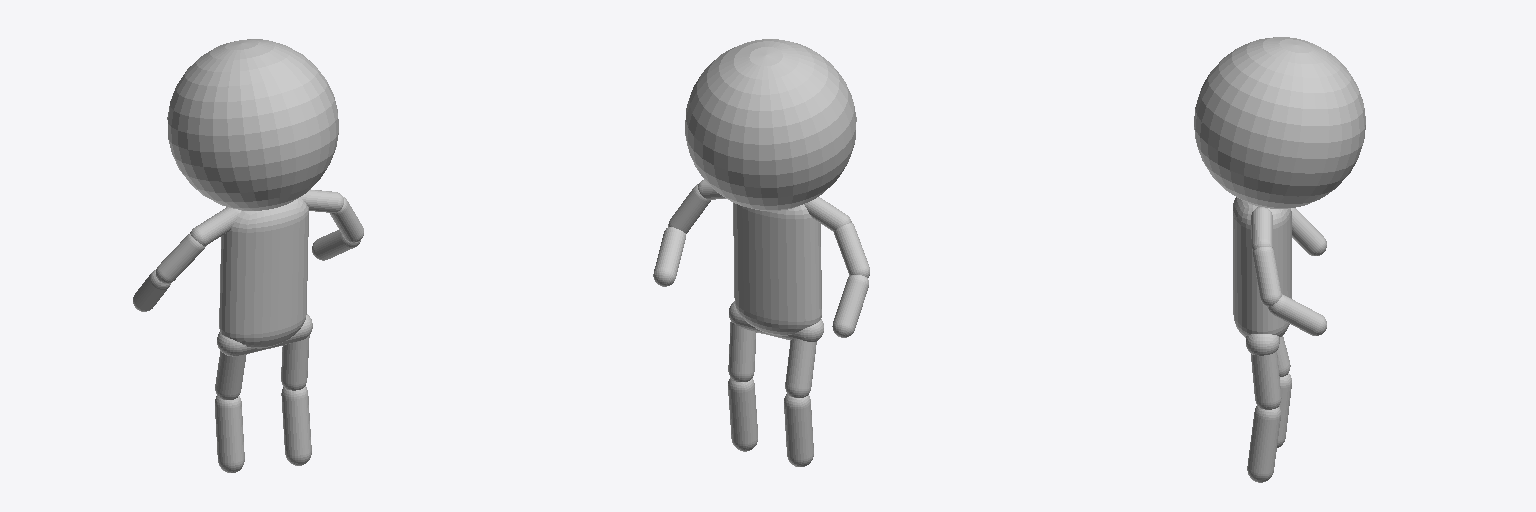
Rendered from Stickman_000054.obj.
The picture shows the model from 3 angles: view 1: azimuth 30°, elevation 25°; view 2: azimuth 150°, elevation 25°; view 3: azimuth 270°, elevation 25°; orthographic projection.
Visible parts, largest first — view 1: Head_Sphere.001, Body_Roundcube.002, LowerLegLeft_Roundcube.013, LowerLegRight_Roundcube.011, UpperLegLeft_Roundcube.012, UpperArmRight_Roundcube.015, UpperLegRight_Roundcube.010, ShoulderRight_Roundcube.014, Hip_Roundcube.005, LowerArmRight_Roundcube.016, LowerArmLeft_Roundcube.019, UpperArmLeft_Roundcube.018 (+1 smaller); view 2: Head_Sphere.001, Body_Roundcube.002, LowerLegRight_Roundcube.011, LowerLegLeft_Roundcube.013, UpperLegRight_Roundcube.010, LowerArmRight_Roundcube.016, UpperLegLeft_Roundcube.012, LowerArmLeft_Roundcube.019, UpperArmRight_Roundcube.015, UpperArmLeft_Roundcube.018, ShoulderRight_Roundcube.014, Hip_Roundcube.005; view 3: Head_Sphere.001, Body_Roundcube.002, LowerLegLeft_Roundcube.013, UpperLegLeft_Roundcube.012, LowerArmLeft_Roundcube.019, UpperArmLeft_Roundcube.018, LowerArmRight_Roundcube.016, ShoulderLeft_Roundcube.017, Hip_Roundcube.005, LowerLegRight_Roundcube.011.
Boxes of the visible parts, box(x1,y1,x2,y2) form: Head_Sphere.001: box(167, 39, 338, 210); Body_Roundcube.002: box(219, 197, 308, 348); LowerLegLeft_Roundcube.013: box(281, 386, 311, 465); LowerLegRight_Roundcube.011: box(215, 396, 244, 472); UpperLegLeft_Roundcube.012: box(281, 335, 309, 390); UpperArmRight_Roundcube.015: box(156, 234, 205, 283); UpperLegRight_Roundcube.010: box(215, 351, 246, 399); ShoulderRight_Roundcube.014: box(190, 207, 240, 245); Hip_Roundcube.005: box(217, 314, 312, 356); LowerArmRight_Roundcube.016: box(133, 270, 170, 311); LowerArmLeft_Roundcube.019: box(312, 230, 360, 260); UpperArmLeft_Roundcube.018: box(330, 197, 363, 242); Head_Sphere.001: box(685, 39, 856, 210); Body_Roundcube.002: box(733, 203, 821, 335); LowerLegRight_Roundcube.011: box(784, 394, 813, 466); LowerLegLeft_Roundcube.013: box(728, 378, 757, 451); UpperLegRight_Roundcube.010: box(785, 339, 816, 397); LowerArmRight_Roundcube.016: box(832, 275, 868, 337); UpperLegLeft_Roundcube.012: box(728, 322, 756, 381); LowerArmLeft_Roundcube.019: box(653, 227, 685, 286); UpperArmRight_Roundcube.015: box(834, 223, 869, 277); UpperArmLeft_Roundcube.018: box(668, 184, 710, 233); ShoulderRight_Roundcube.014: box(804, 197, 851, 231); Hip_Roundcube.005: box(729, 301, 823, 341); Head_Sphere.001: box(1194, 37, 1365, 208); Body_Roundcube.002: box(1233, 197, 1291, 337); LowerLegLeft_Roundcube.013: box(1247, 406, 1280, 482); UpperLegLeft_Roundcube.012: box(1251, 351, 1281, 409); LowerArmLeft_Roundcube.019: box(1268, 294, 1326, 335); UpperArmLeft_Roundcube.018: box(1253, 247, 1281, 306); LowerArmRight_Roundcube.016: box(1291, 208, 1326, 255); ShoulderLeft_Roundcube.017: box(1251, 207, 1272, 250); Hip_Roundcube.005: box(1246, 334, 1279, 355); LowerLegRight_Roundcube.011: box(1277, 373, 1291, 447).
Bounding box in the file's own units: 6.29 × 12.16 × 4.53.